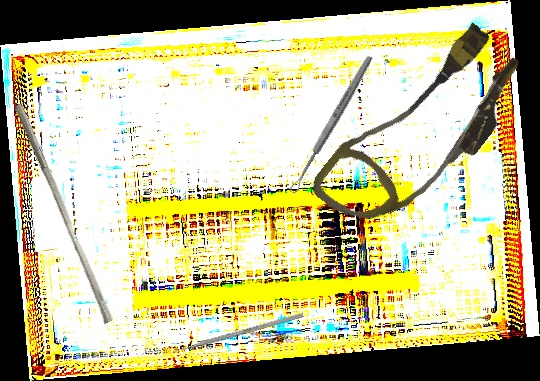Cannula: (306, 4, 539, 258)
Pusher: (5, 102, 122, 325), (164, 312, 304, 357)
Surgical Spoon: (287, 54, 375, 195)
